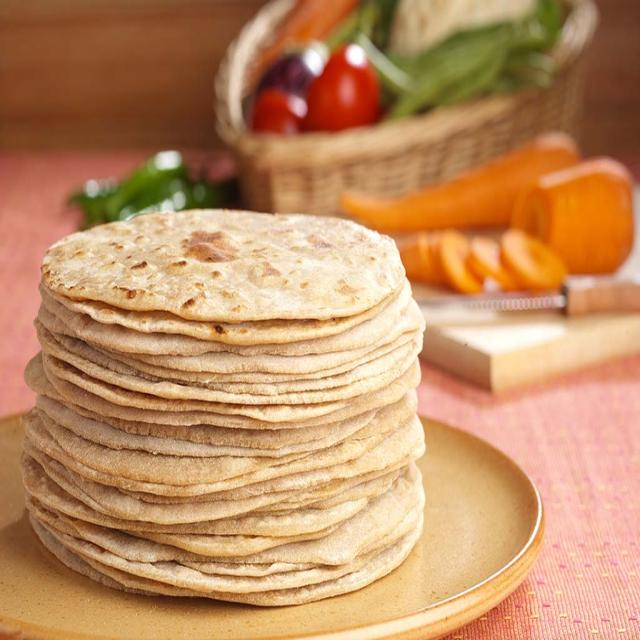chapati: (26, 214, 431, 604)
